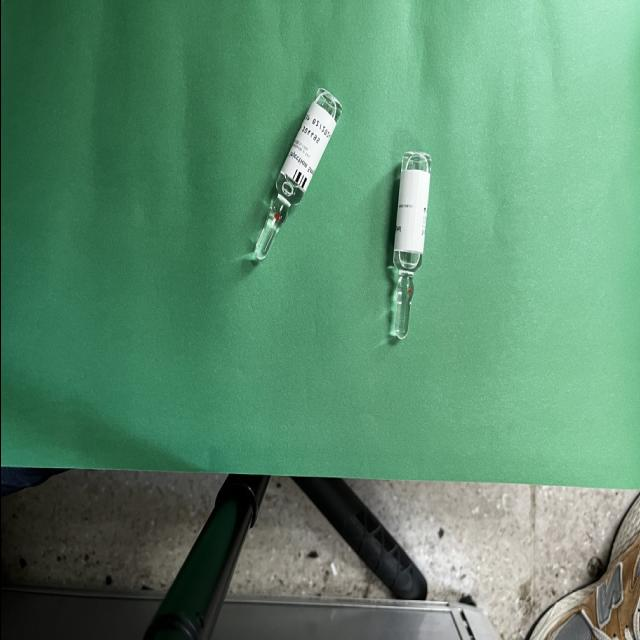Ampoules: (254, 88, 341, 260), (390, 151, 430, 340)
